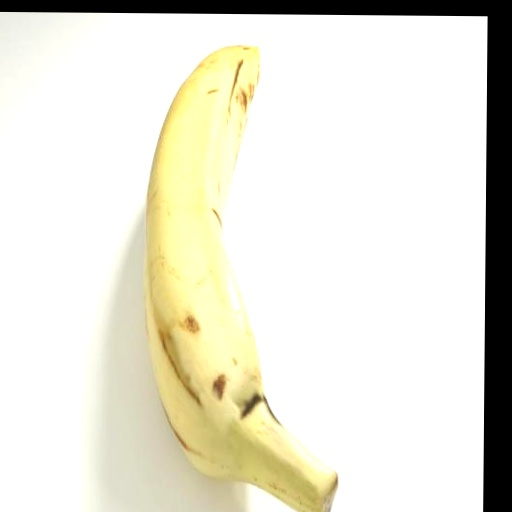fruit: (144, 46, 336, 512)
